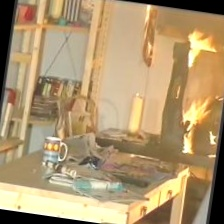fire: (162, 12, 224, 154)
